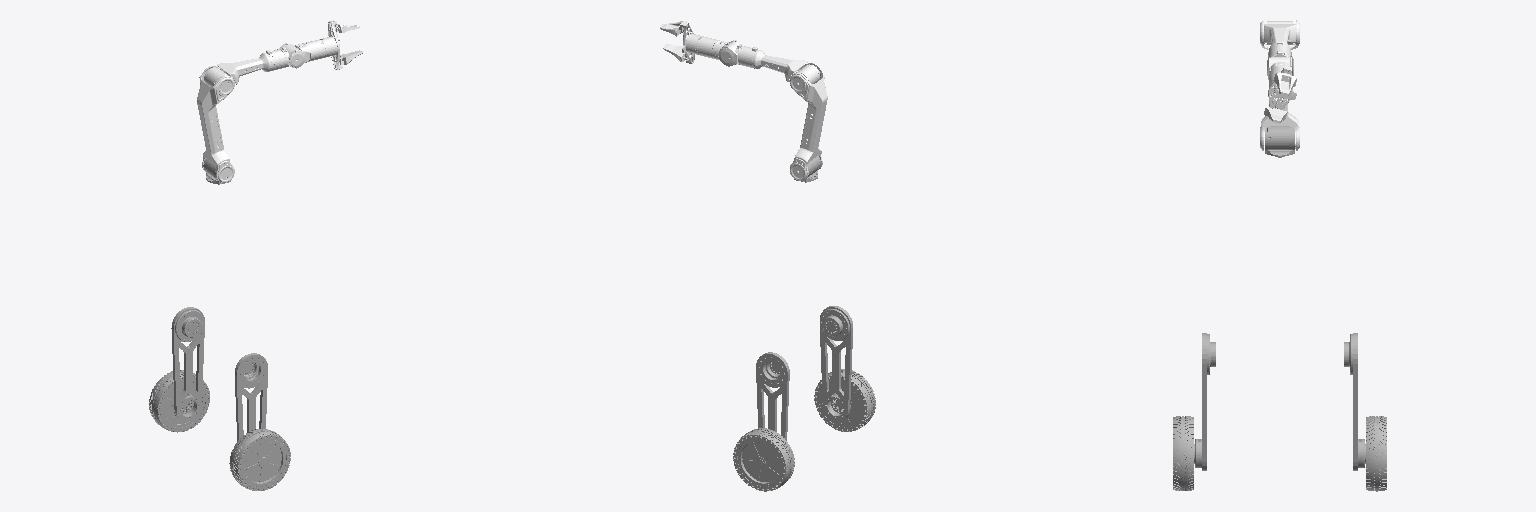
The robot description file, URDF, robot "wheeled_arm_v2":
<?xml version="1.0" encoding="utf-8"?>
<!-- This URDF was automatically created by SolidWorks to URDF Exporter! Originally created by Stephen Brawner (brawner@gmail.com) 
     Commit Version: 1.6.0-4-g7f85cfe  Build Version: 1.6.7995.38578
     For more information, please see http://wiki.ros.org/sw_urdf_exporter -->
<robot
  name="wheeled_arm_v2">
  <link
    name="base_link">
    <inertial>
      <origin
        xyz="-0.015398 0.0002546 0.065682"
        rpy="0 0 0" />
      <mass
        value="6.382" />
      <inertia
        ixx="0.562"
        ixy="0.019"
        ixz="0.12"
        iyy="0.583"
        iyz="-0.071"
        izz="0.134" />
    </inertial>
    <visual>
      <origin
        xyz="0 0 0"
        rpy="0 0 0" />
      <geometry>
        <mesh
          filename="package://wheeled_arm_v2/meshes/base_link.STL" />
      </geometry>
      <material
        name="">
        <color
          rgba="0.75294 0.75294 0.75294 1" />
      </material>
    </visual>
    <collision>
      <origin
        xyz="0 0 0"
        rpy="0 0 0" />
      <geometry>
        <mesh
          filename="package://wheeled_arm_v2/meshes/base_link.STL" />
      </geometry>
    </collision>
  </link>
  <link
    name="HipL">
    <inertial>
      <origin
        xyz="0.094322 -1.4155E-15 -0.015998"
        rpy="0 0 0" />
      <mass
        value="3.721" />
      <inertia
        ixx="0.279"
        ixy="-0.033"
        ixz="0.025"
        iyy="0.088"
        iyz="0.099"
        izz="0.214" />
    </inertial>
    <visual>
      <origin
        xyz="0 0 0"
        rpy="0 0 0" />
      <geometry>
        <mesh
          filename="package://wheeled_arm_v2/meshes/HipL.STL" />
      </geometry>
      <material
        name="">
        <color
          rgba="0.75294 0.75294 0.75294 1" />
      </material>
    </visual>
    <collision>
      <origin
        xyz="0 0 0"
        rpy="0 0 0" />
      <geometry>
        <mesh
          filename="package://wheeled_arm_v2/meshes/HipL.STL" />
      </geometry>
    </collision>
  </link>
  <joint
    name="HipL"
    type="revolute">
    <origin
      xyz="-0.000233492816984426 0.110014223674619 -0.017208771353604"
      rpy="1.5707963267949 1.5707963267949 0" />
    <parent
      link="base_link" />
    <child
      link="HipL" />
    <axis
      xyz="0 0 -1" />
    <limit
      lower="-3.14"
      upper="3.14"
      effort="120"
      velocity="0" />
  </joint>
  <link
    name="KneeL">
    <inertial>
      <origin
        xyz="0.10421 3.9205E-15 0.0277"
        rpy="0 0 0" />
      <mass
        value="0.7847" />
      <inertia
        ixx="0.173"
        ixy="-0.017"
        ixz="0.003"
        iyy="0.009"
        iyz="0.032"
        izz="0.169" />
    </inertial>
    <visual>
      <origin
        xyz="0 0 0"
        rpy="0 0 0" />
      <geometry>
        <mesh
          filename="package://wheeled_arm_v2/meshes/KneeL.STL" />
      </geometry>
      <material
        name="">
        <color
          rgba="0.75294 0.75294 0.75294 1" />
      </material>
    </visual>
    <collision>
      <origin
        xyz="0 0 0"
        rpy="0 0 0" />
      <geometry>
        <mesh
          filename="package://wheeled_arm_v2/meshes/KneeL.STL" />
      </geometry>
    </collision>
  </link>
  <joint
    name="KneeL"
    type="revolute">
    <origin
      xyz="0.281999999999997 0 -0.0467"
      rpy="3.14159265358979 0 0" />
    <parent
      link="HipL" />
    <child
      link="KneeL" />
    <axis
      xyz="0 0 -1" />
    <limit
      lower="-3.14"
      upper="3.14"
      effort="120"
      velocity="0" />
  </joint>
  <link
    name="HubL">
    <inertial>
      <origin
        xyz="1.3804E-05 -1.5091E-06 -0.02755"
        rpy="0 0 0" />
      <mass
        value="1.1563" />
      <inertia
        ixx="0.438"
        ixy="-0.034"
        ixz="0.002"
        iyy="0.007"
        iyz="0.028"
        izz="0.441" />
    </inertial>
    <visual>
      <origin
        xyz="0 0 0"
        rpy="0 0 0" />
      <geometry>
        <mesh
          filename="package://wheeled_arm_v2/meshes/HubL.STL" />
      </geometry>
      <material
        name="">
        <color
          rgba="0.75294 0.75294 0.75294 1" />
      </material>
    </visual>
    <collision>
      <origin
        xyz="0 0 0"
        rpy="0 0 0" />
      <geometry>
        <mesh
          filename="package://wheeled_arm_v2/meshes/HubL.STL" />
      </geometry>
    </collision>
  </link>
  <joint
    name="HubL"
    type="continuous">
    <origin
      xyz="0.26997906834025 0 0.0519999999999905"
      rpy="-3.14159265358979 0 0" />
    <parent
      link="KneeL" />
    <child
      link="HubL" />
    <axis
      xyz="0 0 -1" />
    <limit
      effort="17"
      velocity="115" />
  </joint>
  <link
    name="HipR">
    <inertial>
      <origin
        xyz="0.094322 -1.4155E-15 -0.015998"
        rpy="0 0 0" />
      <mass
        value="3.721" />
      <inertia
        ixx="0.83"
        ixy="-0.033"
        ixz="0.073"
        iyy="0.639"
        iyz="0.287"
        izz="0.214" />
    </inertial>
    <visual>
      <origin
        xyz="0 0 0"
        rpy="0 0 0" />
      <geometry>
        <mesh
          filename="package://wheeled_arm_v2/meshes/HipR.STL" />
      </geometry>
      <material
        name="">
        <color
          rgba="0.75294 0.75294 0.75294 1" />
      </material>
    </visual>
    <collision>
      <origin
        xyz="0 0 0"
        rpy="0 0 0" />
      <geometry>
        <mesh
          filename="package://wheeled_arm_v2/meshes/HipR.STL" />
      </geometry>
    </collision>
  </link>
  <joint
    name="HipR"
    type="revolute">
    <origin
      xyz="-0.00023349 -0.10999 -0.017209"
      rpy="-1.5708 1.5708 0" />
    <parent
      link="base_link" />
    <child
      link="HipR" />
    <axis
      xyz="0 0 -1" />
    <limit
      lower="-3.14"
      upper="3.14"
      effort="120"
      velocity="0" />
  </joint>
  <link
    name="KneeR">
    <inertial>
      <origin
        xyz="0.10421 -4.9523E-14 0.0277"
        rpy="0 0 0" />
      <mass
        value="0.7847" />
      <inertia
        ixx="0.333"
        ixy="-0.017"
        ixz="0.017"
        iyy="0.169"
        iyz="0.162"
        izz="0.169" />
    </inertial>
    <visual>
      <origin
        xyz="0 0 0"
        rpy="0 0 0" />
      <geometry>
        <mesh
          filename="package://wheeled_arm_v2/meshes/KneeR.STL" />
      </geometry>
      <material
        name="">
        <color
          rgba="0.75294 0.75294 0.75294 1" />
      </material>
    </visual>
    <collision>
      <origin
        xyz="0 0 0"
        rpy="0 0 0" />
      <geometry>
        <mesh
          filename="package://wheeled_arm_v2/meshes/KneeR.STL" />
      </geometry>
    </collision>
  </link>
  <joint
    name="KneeR"
    type="revolute">
    <origin
      xyz="0.281999999999997 0 -0.0467"
      rpy="3.14159265358979 0 0" />
    <parent
      link="HipR" />
    <child
      link="KneeR" />
    <axis
      xyz="0 0 -1" />
    <limit
      lower="-3.14"
      upper="3.14"
      effort="120"
      velocity="0" />
  </joint>
  <link
    name="HubR">
    <inertial>
      <origin
        xyz="1.3804E-05 -1.5094E-06 -0.02755"
        rpy="0 0 0" />
      <mass
        value="1.1563" />
      <inertia
        ixx="0.74"
        ixy="-0.034"
        ixz="0.028"
        iyy="0.309"
        iyz="0.363"
        izz="0.441" />
    </inertial>
    <visual>
      <origin
        xyz="0 0 0"
        rpy="0 0 0" />
      <geometry>
        <mesh
          filename="package://wheeled_arm_v2/meshes/HubR.STL" />
      </geometry>
      <material
        name="">
        <color
          rgba="0.75294 0.75294 0.75294 1" />
      </material>
    </visual>
    <collision>
      <origin
        xyz="0 0 0"
        rpy="0 0 0" />
      <geometry>
        <mesh
          filename="package://wheeled_arm_v2/meshes/HubR.STL" />
      </geometry>
    </collision>
  </link>
  <joint
    name="HubR"
    type="continuous">
    <origin
      xyz="0.269979068340252 0 0.0519999999999931"
      rpy="-3.14159265358979 0 0" />
    <parent
      link="KneeR" />
    <child
      link="HubR" />
    <axis
      xyz="0 0 -1" />
    <limit
      effort="17"
      velocity="115" />
  </joint>
  <link
    name="Arm_R">
    <inertial>
      <origin
        xyz="-0.015398 0.0002546 0.065682"
        rpy="0 0 0" />
      <mass
        value="0.49" />
      <inertia
        ixx="0.562"
        ixy="0.019"
        ixz="0.12"
        iyy="0.583"
        iyz="-0.071"
        izz="0.134" />
    </inertial>
    <visual>
      <origin
        xyz="0 0 0"
        rpy="0 0 0" />
      <geometry>
        <mesh
          filename="package://wheeled_arm_v2/meshes/Arm_R.STL" />
      </geometry>
      <material
        name="">
        <color
          rgba="0.75294 0.75294 0.75294 1" />
      </material>
    </visual>
    <collision>
      <origin
        xyz="0 0 0"
        rpy="0 0 0" />
      <geometry>
        <mesh
          filename="package://wheeled_arm_v2/meshes/Arm_R.STL" />
      </geometry>
    </collision>
  </link>
  <joint
    name="Arm_R"
    type="revolute">
    <origin
      xyz="-0.012349 1.4546E-05 0.25079"
      rpy="0 0 0" />
    <parent
      link="base_link" />
    <child
      link="Arm_R" />
    <axis
      xyz="0 0 1" />
    <limit
      lower="-3.14"
      upper="3.14"
      effort="27"
      velocity="0" />
  </joint>
  <link
    name="Arm_Y1">
    <inertial>
      <origin
        xyz="0.19076 -0.011655 -0.032116"
        rpy="0 0 0" />
      <mass
        value="0.958" />
      <inertia
        ixx="0.257"
        ixy="0.027"
        ixz="0.017"
        iyy="0.077"
        iyz="-0.115"
        izz="0.188" />
    </inertial>
    <visual>
      <origin
        xyz="0 0 0"
        rpy="0 0 0" />
      <geometry>
        <mesh
          filename="package://wheeled_arm_v2/meshes/Arm_Y1.STL" />
      </geometry>
      <material
        name="">
        <color
          rgba="1 1 1 1" />
      </material>
    </visual>
    <collision>
      <origin
        xyz="0 0 0"
        rpy="0 0 0" />
      <geometry>
        <mesh
          filename="package://wheeled_arm_v2/meshes/Arm_Y1.STL" />
      </geometry>
    </collision>
  </link>
  <joint
    name="Arm_Y1"
    type="revolute">
    <origin
      xyz="0.0071154047696932 0.0327496781044176 0.0370000000000002"
      rpy="-1.57079632679491 -1.5707963267949 0" />
    <parent
      link="Arm_R" />
    <child
      link="Arm_Y1" />
    <axis
      xyz="0 0 1" />
    <limit
      lower="-1.57"
      upper="1.57"
      effort="27"
      velocity="0" />
  </joint>
  <link
    name="Arm_Y2">
    <inertial>
      <origin
        xyz="0.16155 -0.021893 -0.032752"
        rpy="0 0 0" />
      <mass
        value="0.738" />
      <inertia
        ixx="0.281"
        ixy="-0.044"
        ixz="-0.022"
        iyy="0.065"
        iyz="-0.112"
        izz="0.234" />
    </inertial>
    <visual>
      <origin
        xyz="0 0 0"
        rpy="0 0 0" />
      <geometry>
        <mesh
          filename="package://wheeled_arm_v2/meshes/Arm_Y2.STL" />
      </geometry>
      <material
        name="">
        <color
          rgba="1 1 1 1" />
      </material>
    </visual>
    <collision>
      <origin
        xyz="0 0 0"
        rpy="0 0 0" />
      <geometry>
        <mesh
          filename="package://wheeled_arm_v2/meshes/Arm_Y2.STL" />
      </geometry>
    </collision>
  </link>
  <joint
    name="Arm_Y2"
    type="revolute">
    <origin
      xyz="0.285029571976847 0 0"
      rpy="0 0 1.5707963267949" />
    <parent
      link="Arm_Y1" />
    <child
      link="Arm_Y2" />
    <axis
      xyz="0 0 1" />
    <limit
      lower="-1.57"
      upper="1.57"
      effort="27"
      velocity="0" />
  </joint>
  <link
    name="Arm_P1">
    <inertial>
      <origin
        xyz="0.00016825 -0.0028362 0.031075"
        rpy="0 0 0" />
      <mass
        value="0.632" />
      <inertia
        ixx="0.24"
        ixy="-0.067"
        ixz="-0.033"
        iyy="0.071"
        iyz="-0.095"
        izz="0.216" />
    </inertial>
    <visual>
      <origin
        xyz="0 0 0"
        rpy="0 0 0" />
      <geometry>
        <mesh
          filename="package://wheeled_arm_v2/meshes/Arm_P1.STL" />
      </geometry>
      <material
        name="">
        <color
          rgba="1 1 1 1" />
      </material>
    </visual>
    <collision>
      <origin
        xyz="0 0 0"
        rpy="0 0 0" />
      <geometry>
        <mesh
          filename="package://wheeled_arm_v2/meshes/Arm_P1.STL" />
      </geometry>
    </collision>
  </link>
  <joint
    name="Arm_P1"
    type="revolute">
    <origin
      xyz="0.214751946919796 -0.0219839705141729 -0.0327499999999978"
      rpy="-1.57079632679489 0 -1.5707963267949" />
    <parent
      link="Arm_Y2" />
    <child
      link="Arm_P1" />
    <axis
      xyz="0 0 -1" />
    <limit
      lower="-1.57"
      upper="1.57"
      effort="27"
      velocity="0" />
  </joint>
  <link
    name="Arm_Y3">
    <inertial>
      <origin
        xyz="0.057026 1.4351E-05 -0.020402"
        rpy="0 0 0" />
      <mass
        value="0.637" />
      <inertia
        ixx="0.243"
        ixy="-0.09"
        ixz="-0.045"
        iyy="0.091"
        iyz="-0.098"
        izz="0.235" />
    </inertial>
    <visual>
      <origin
        xyz="0 0 0"
        rpy="0 0 0" />
      <geometry>
        <mesh
          filename="package://wheeled_arm_v2/meshes/Arm_Y3.STL" />
      </geometry>
      <material
        name="">
        <color
          rgba="1 1 1 1" />
      </material>
    </visual>
    <collision>
      <origin
        xyz="0 0 0"
        rpy="0 0 0" />
      <geometry>
        <mesh
          filename="package://wheeled_arm_v2/meshes/Arm_Y3.STL" />
      </geometry>
    </collision>
  </link>
  <joint
    name="Arm_Y3"
    type="revolute">
    <origin
      xyz="0 0.0224999999999993 0.0359999999999988"
      rpy="-1.5707963267949 -1.5707963267949 0" />
    <parent
      link="Arm_P1" />
    <child
      link="Arm_Y3" />
    <axis
      xyz="0 0 -1" />
    <limit
      lower="-1.57"
      upper="1.57"
      effort="27"
      velocity="0" />
  </joint>
  <link
    name="Arm_P2">
    <inertial>
      <origin
        xyz="-8.6993E-05 -0.00012256 0.051431"
        rpy="0 0 0" />
      <mass
        value="0.5" />
      <inertia
        ixx="0.19"
        ixy="-0.094"
        ixz="-0.047"
        iyy="0.096"
        iyz="-0.076"
        izz="0.21" />
    </inertial>
    <visual>
      <origin
        xyz="0 0 0"
        rpy="0 0 0" />
      <geometry>
        <mesh
          filename="package://wheeled_arm_v2/meshes/Arm_P2.STL" />
      </geometry>
      <material
        name="">
        <color
          rgba="1 1 1 1" />
      </material>
    </visual>
    <collision>
      <origin
        xyz="0 0 0"
        rpy="0 0 0" />
      <geometry>
        <mesh
          filename="package://wheeled_arm_v2/meshes/Arm_P2.STL" />
      </geometry>
    </collision>
  </link>
  <joint
    name="Arm_P2"
    type="revolute">
    <origin
      xyz="0.09100000000001 0 -0.0239165214861999"
      rpy="1.57079632679491 0 1.5707963267949" />
    <parent
      link="Arm_Y3" />
    <child
      link="Arm_P2" />
    <axis
      xyz="0 0 -1" />
    <limit
      lower="-1.57"
      upper="1.57"
      effort="27"
      velocity="0" />
  </joint>
</robot>

--- Render facts (derived) ---
Views: 3 orthographic renders of the robot side by side, from view 1: azimuth 30°, elevation 25°; view 2: azimuth 150°, elevation 25°; view 3: azimuth 270°, elevation 25°.
Robot: wheeled_arm_v2 — 13 links, 12 joints (10 revolute, 2 continuous); root link base_link; default pose: every joint at zero.
Visible links, largest first — view 1: HubR, KneeL, Arm_Y1, KneeR, HubL, Arm_Y2, Arm_P2, Arm_Y3; view 2: HubL, KneeR, Arm_Y1, KneeL, HubR, Arm_Y2, Arm_P2; view 3: HubL, HubR, Arm_P2, KneeL, KneeR, Arm_R, Arm_Y1, Arm_Y2.
Link boxes in pixels (x1,y1,x2,y2): HubR: (229, 429, 290, 490); KneeL: (171, 307, 204, 421); Arm_Y1: (197, 66, 234, 182); KneeR: (235, 353, 267, 441); HubL: (149, 370, 209, 432); Arm_Y2: (217, 49, 285, 84); Arm_P2: (317, 20, 362, 69); Arm_Y3: (289, 40, 322, 68); HubL: (733, 428, 794, 491); KneeR: (820, 306, 852, 420); Arm_Y1: (789, 63, 827, 180); KneeL: (756, 352, 789, 440); HubR: (814, 369, 875, 431); Arm_Y2: (738, 46, 807, 81); Arm_P2: (660, 21, 705, 63); HubL: (1365, 416, 1386, 491); HubR: (1173, 416, 1194, 490); Arm_P2: (1264, 66, 1296, 123); KneeL: (1344, 333, 1364, 470); KneeR: (1195, 333, 1215, 470); Arm_R: (1265, 126, 1295, 157); Arm_Y1: (1260, 20, 1299, 150); Arm_Y2: (1264, 24, 1295, 57).
Size in the robot's own frame: 0.5717 by 0.5286 by 1.33 metres.
10 mesh visuals loaded from 13 distinct referenced files (10 binary STL); not drawn: 3 (reference not matched to a file when rendering).
